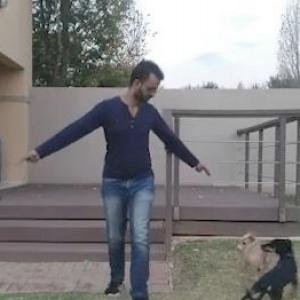land: (0, 56, 237, 299)
